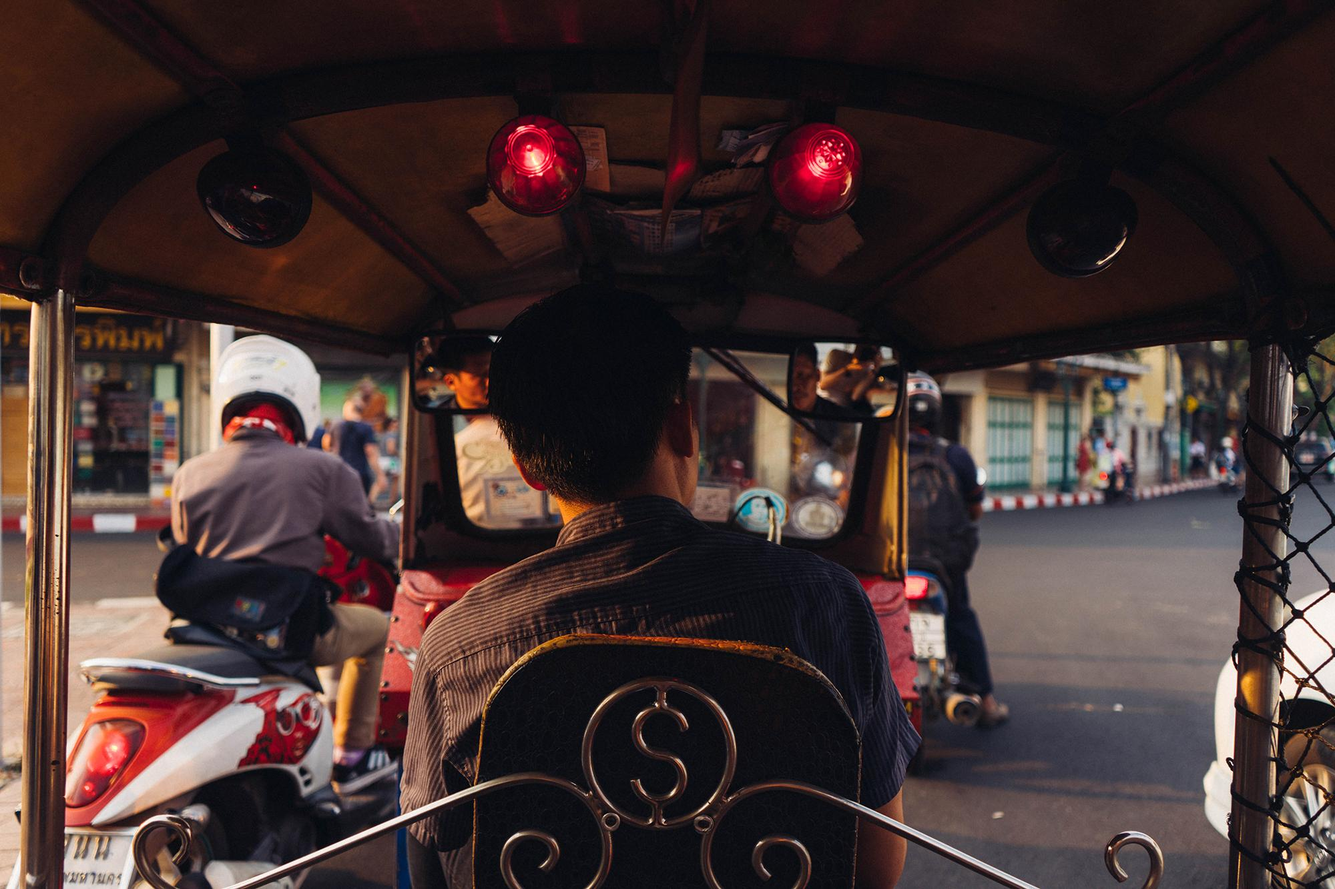helmet: (214, 332, 323, 449)
nohelmet: (485, 281, 702, 529)
